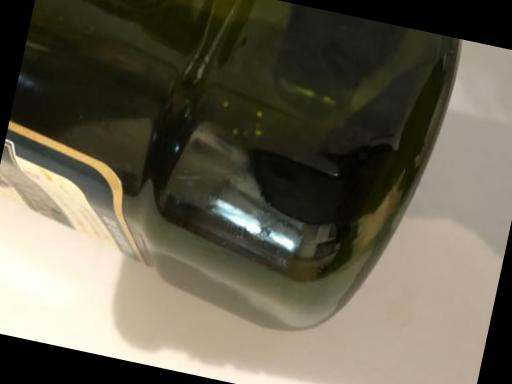Plastik: (0, 0, 475, 365)
